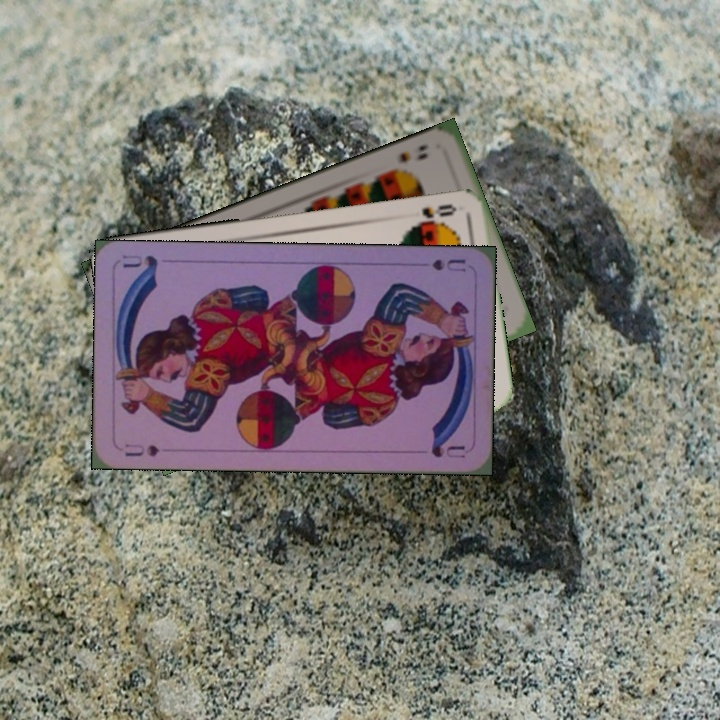S9: (394, 140, 432, 166)
SO: (406, 200, 460, 229)
SU: (121, 439, 162, 460), (428, 255, 468, 274)
